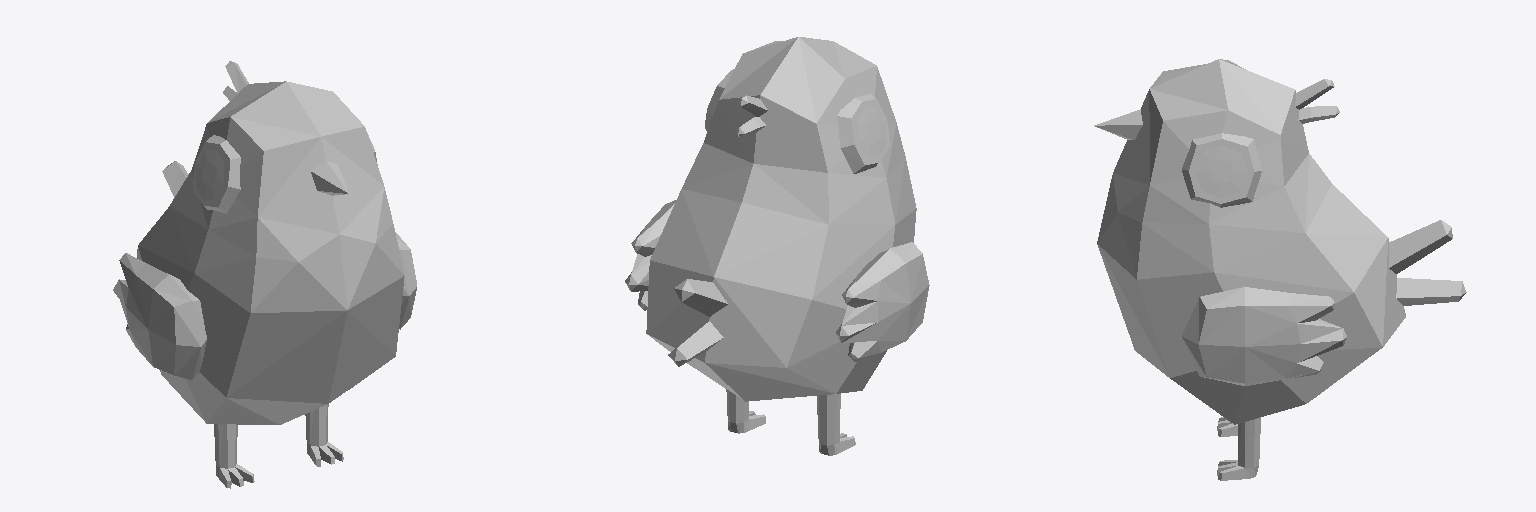
Rendered from Sparrow_LOD3.obj.
3 views of the same model, side by side, from view 1: azimuth 30°, elevation 25°; view 2: azimuth 150°, elevation 25°; view 3: azimuth 270°, elevation 25° (orthographic).
Parts seen in each view (by area): view 1: Mesh_Sparrow_LOD3; view 2: Mesh_Sparrow_LOD3; view 3: Mesh_Sparrow_LOD3.
Part boxes in pixels (x1,y1,x2,y2): Mesh_Sparrow_LOD3: (113, 61, 416, 488); Mesh_Sparrow_LOD3: (625, 37, 929, 455); Mesh_Sparrow_LOD3: (1094, 59, 1466, 480).
Size of the model in its own units: 0.4466 by 0.6702 by 0.5753.